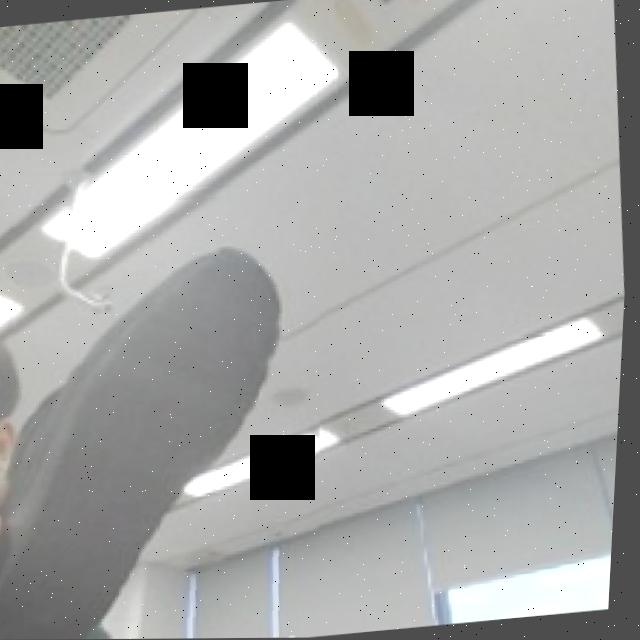shoe: (0, 183, 360, 640)
